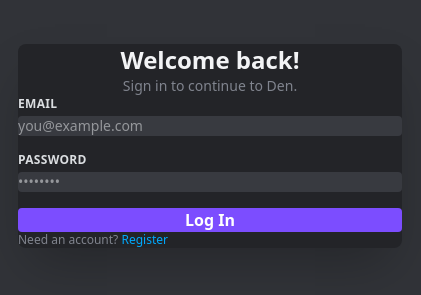
AuthPage — register mode › clears the error when switching between login and register
This screenshot has width=421, height=295.
Type "x@x.com" into the field with placeholder "you@example.com" at (210, 126), box x1=18 y1=116 x2=402 y2=136
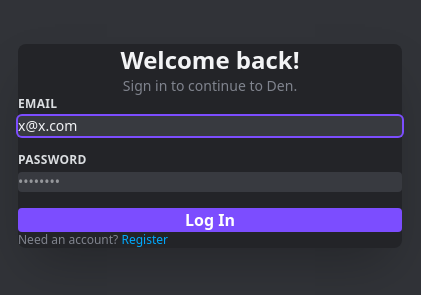
Type "x" into the password field with placeholder "••••••••" at (210, 182), box x1=18 y1=172 x2=402 y2=192
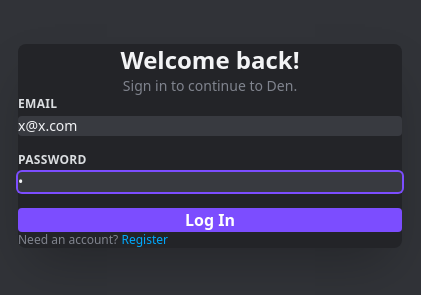
Click the button "Log In" at (210, 220), box x1=18 y1=208 x2=402 y2=232
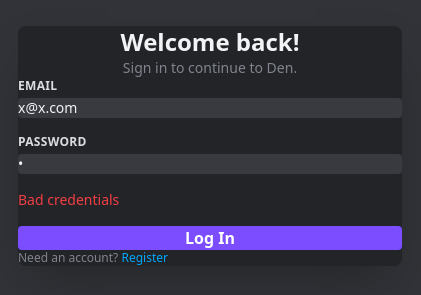
Expected: the text "Bad credentials" is shown, x1=18 y1=190 x2=119 y2=209
Switch to register — error should disappear
Click the button "Register" at (145, 258), box x1=121 y1=250 x2=168 y2=266
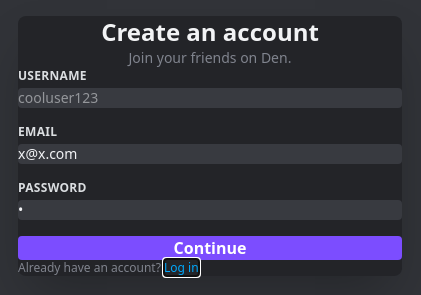
Expected: the text "Bad credentials" is gone
